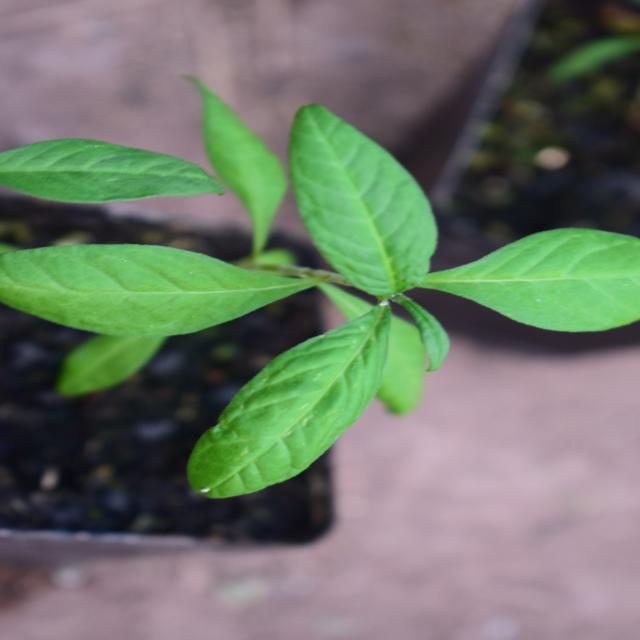white_smart_weed: (124, 0, 508, 579)
